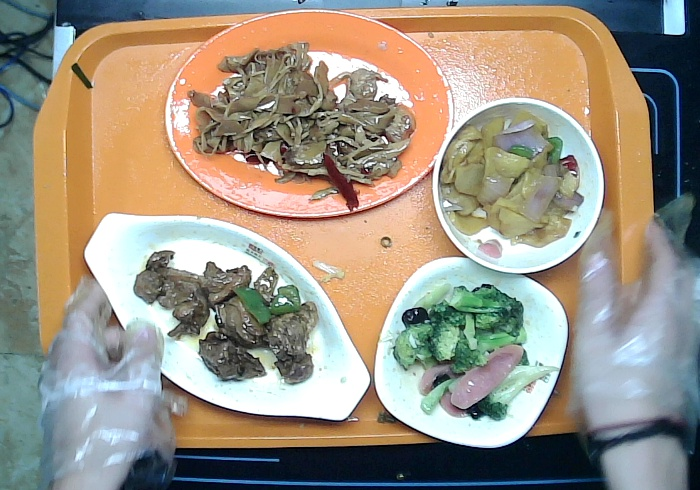NLDX-Bai_Se_Xiao_Fang_Die: (373, 256, 569, 450)
NLDX-Fan_Wan: (430, 97, 606, 274)
NLDX-Ju_Se_Pan: (164, 9, 454, 219)
NLDX-Yu_Pan: (82, 211, 370, 421)
